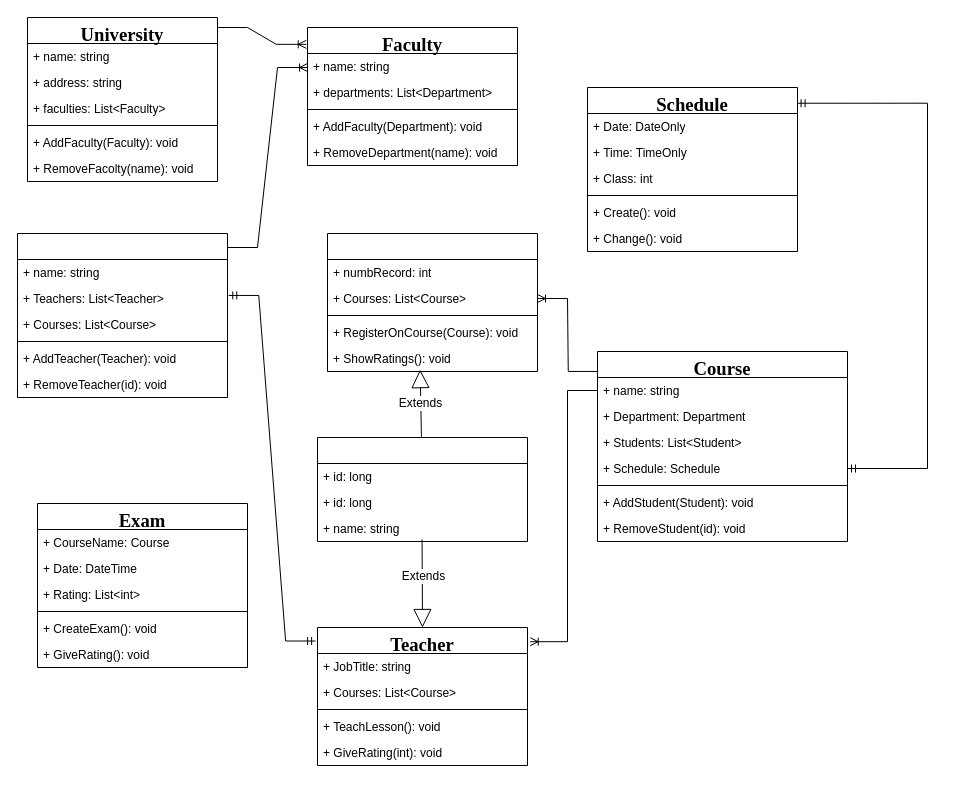
Image size: 954x786. Some labels were removed from this diagram. The shapes that lost their labels are listed below. From the top down, each one's box as (x1, y1, x2, y2) in pixels, then its label:
(16, 232, 228, 398): Department
(326, 232, 538, 372): Student
(316, 436, 528, 542): User
